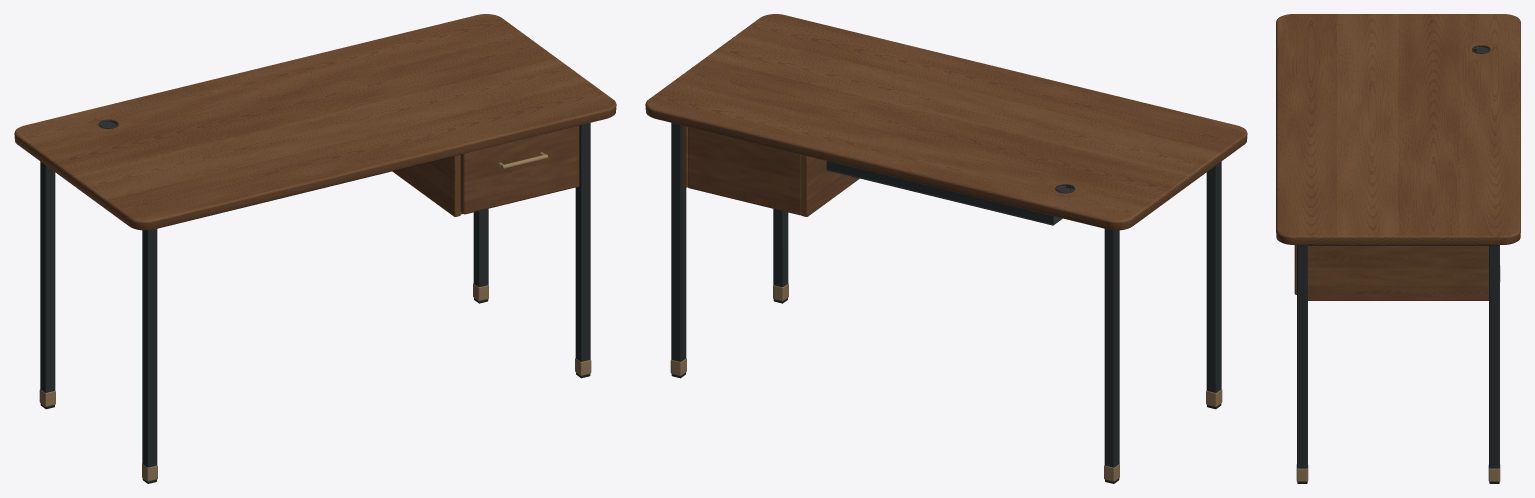
3 views of the same model, side by side, from view 1: azimuth 30°, elevation 25°; view 2: azimuth 150°, elevation 25°; view 3: azimuth 270°, elevation 25° (orthographic). The views are drawn at different scales.
Visible parts, largest first — view 1: Solid walnut worktop | 1400 x 650 x 28 mm, Walnut drawer front, Slender steel square leg, Slender steel square leg.001, Slender steel square leg.002, Drawer left carcass side, Slender steel square leg.003; view 2: Solid walnut worktop | 1400 x 650 x 28 mm, Drawer rear panel, Slender steel square leg.001, Slender steel square leg, Slender steel square leg.003, Cable trough rear flange, Drawer left carcass side, Slender steel square leg.002; view 3: Solid walnut worktop | 1400 x 650 x 28 mm, Drawer right carcass side, Slender steel square leg.002, Slender steel square leg.003.
Part boxes in pixels (left/top/right/bottom): Solid walnut worktop | 1400 x 650 x 28 mm: left=14, top=14, right=616, bottom=230; Walnut drawer front: left=460, top=126, right=576, bottom=214; Slender steel square leg: left=142, top=228, right=157, bottom=467; Slender steel square leg.001: left=40, top=161, right=55, bottom=392; Slender steel square leg.002: left=575, top=123, right=590, bottom=361; Drawer left carcass side: left=392, top=154, right=460, bottom=216; Slender steel square leg.003: left=473, top=208, right=488, bottom=287; Solid walnut worktop | 1400 x 650 x 28 mm: left=645, top=14, right=1247, bottom=230; Drawer rear panel: left=688, top=127, right=801, bottom=215; Slender steel square leg.001: left=1104, top=228, right=1119, bottom=467; Slender steel square leg: left=1206, top=161, right=1221, bottom=392; Slender steel square leg.003: left=671, top=123, right=686, bottom=361; Cable trough rear flange: left=826, top=161, right=1053, bottom=224; Drawer left carcass side: left=801, top=154, right=859, bottom=216; Slender steel square leg.002: left=773, top=209, right=788, bottom=287; Solid walnut worktop | 1400 x 650 x 28 mm: left=1276, top=14, right=1520, bottom=244; Drawer right carcass side: left=1308, top=246, right=1488, bottom=300; Slender steel square leg.002: left=1297, top=245, right=1307, bottom=468; Slender steel square leg.003: left=1489, top=245, right=1499, bottom=468.
Size of the model in its own units: 1.4 by 0.7583 by 0.65.
7 materials, 2 textured.
